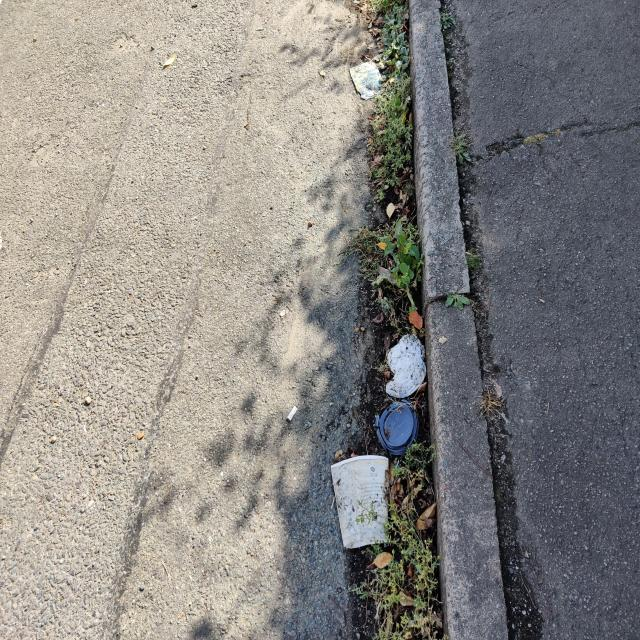litter: (328, 455, 389, 557), (372, 393, 418, 459)
